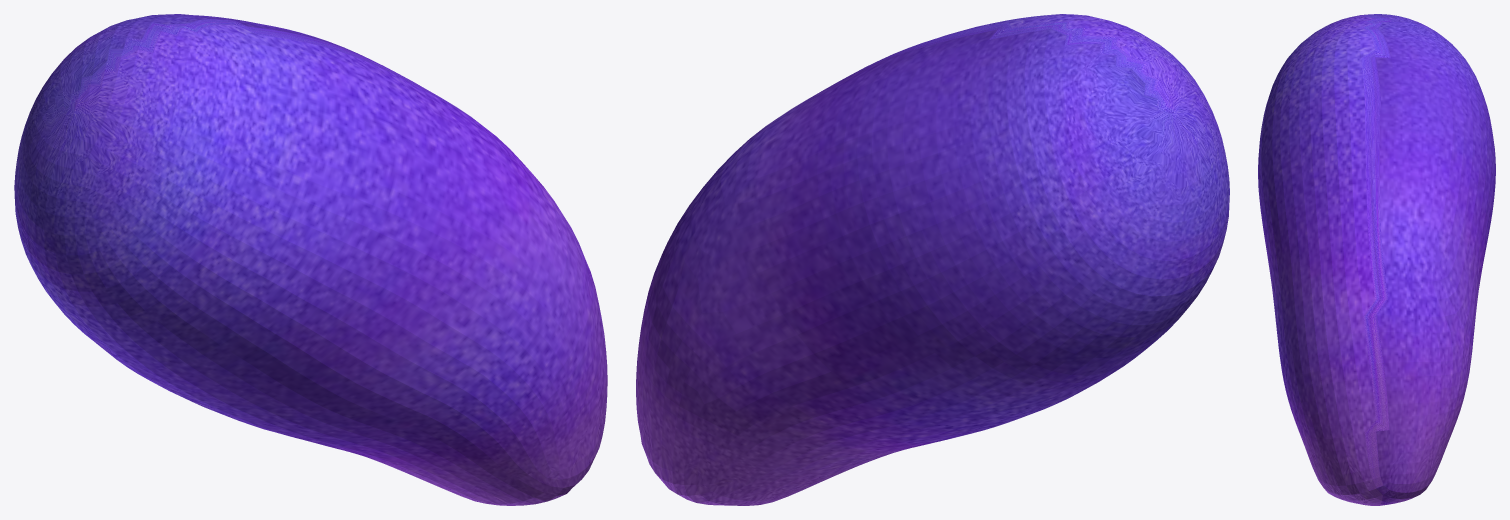
File: mouse-transformed.glb
The picture shows the model from 3 angles, left to right: view 1: azimuth 30°, elevation 25°; view 2: azimuth 150°, elevation 25°; view 3: azimuth 270°, elevation 25°; orthographic projection. The views are drawn at different scales.
Visible parts, largest first — view 1: Subdivision_Surface_remesh; view 2: Subdivision_Surface_remesh; view 3: Subdivision_Surface_remesh.
Boxes of the visible parts, left/top/right/bottom form: Subdivision_Surface_remesh: left=14, top=14, right=607, bottom=505; Subdivision_Surface_remesh: left=636, top=14, right=1229, bottom=505; Subdivision_Surface_remesh: left=1258, top=14, right=1495, bottom=505.
Bounding box in the file's own units: 0.4827 × 0.453 × 0.2664.
Materials: 1 (1 with a texture image).
